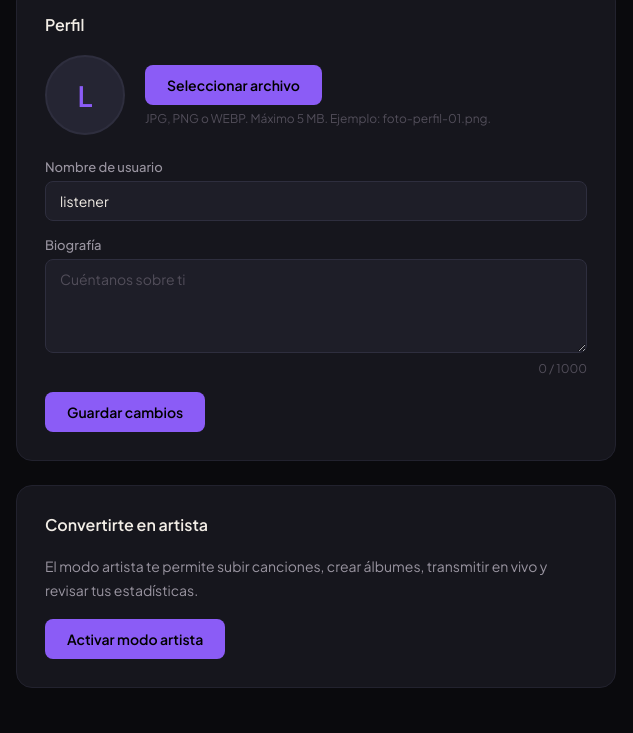
Test: SettingsPage › validates the profile form before opening the confirmation dialog
(page scrolled)
Clear the field labelled "Nombre de usuario" at (316, 201), box [45,181,587,221]
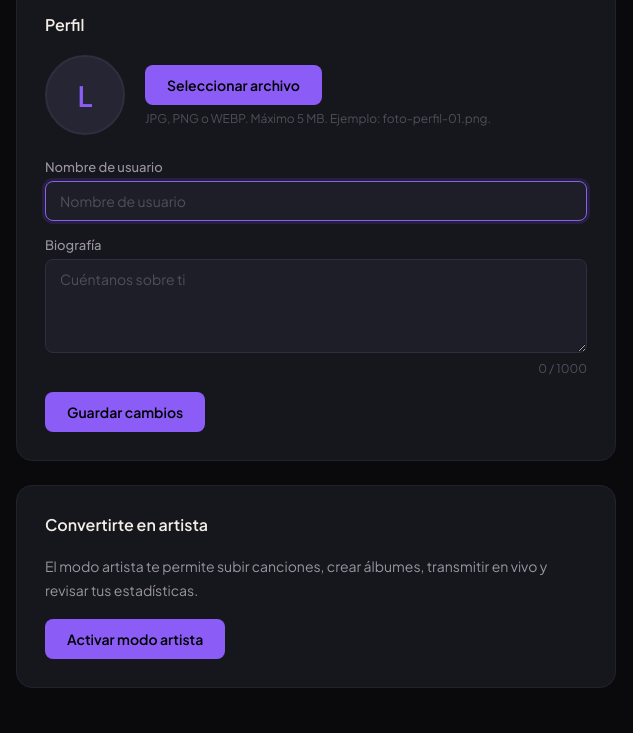
Click the button "Guardar cambios" at (125, 412), box [45,392,205,432]
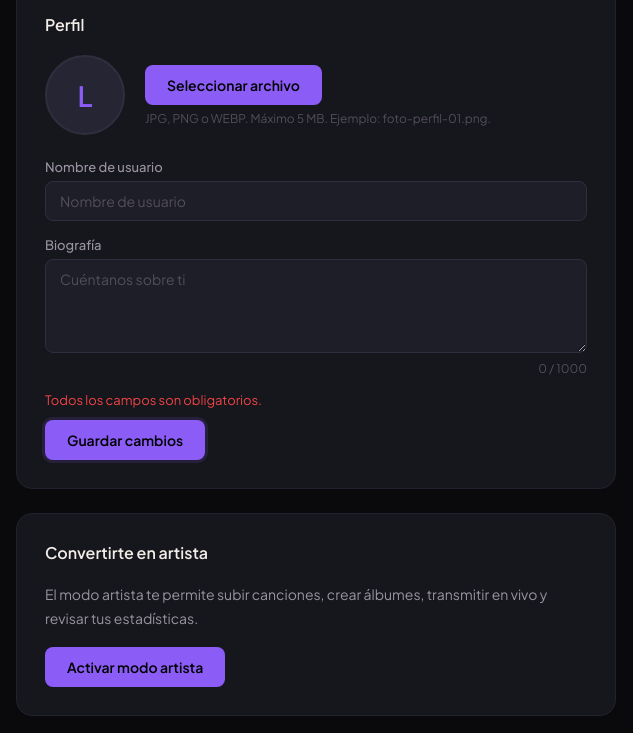
Expected: the message reads "Todos los campos son obligatorios.", [45,392,262,408]
Type "ab" into the field labelled "Nombre de usuario" at (316, 201), box [45,181,587,221]
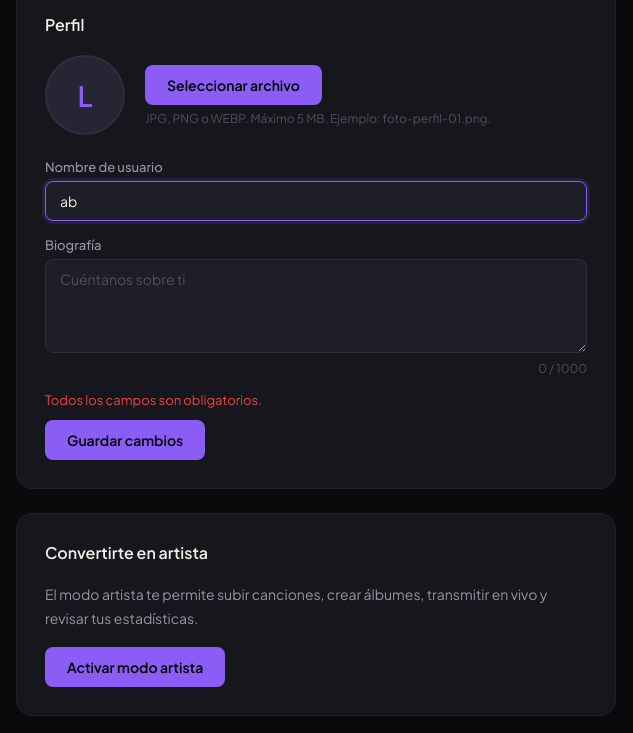
Click the button "Guardar cambios" at (125, 440), box [45,420,205,460]
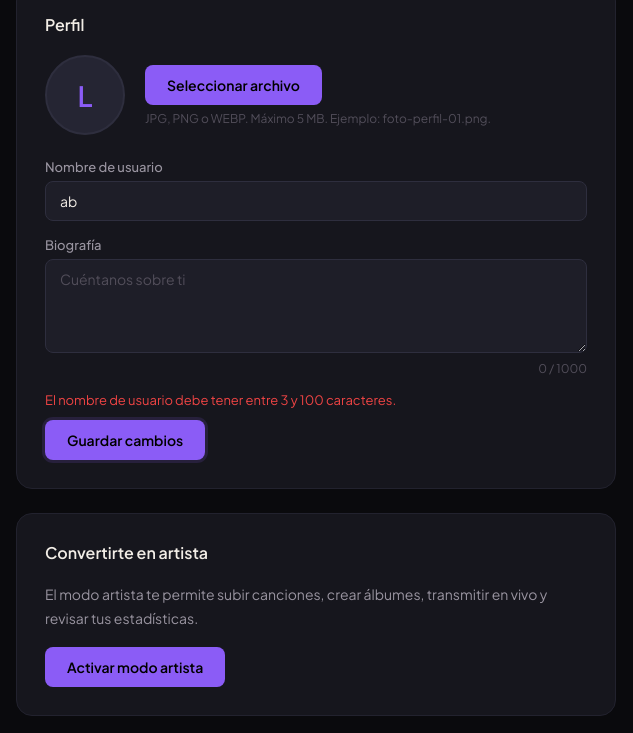
Expected: the message reads "El nombre de usuario debe tener entre 3 y 100 caracteres.", [45,392,396,408]
